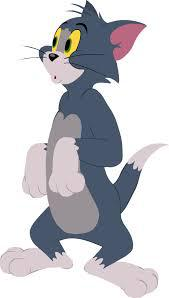tom: (1, 1, 169, 297)
